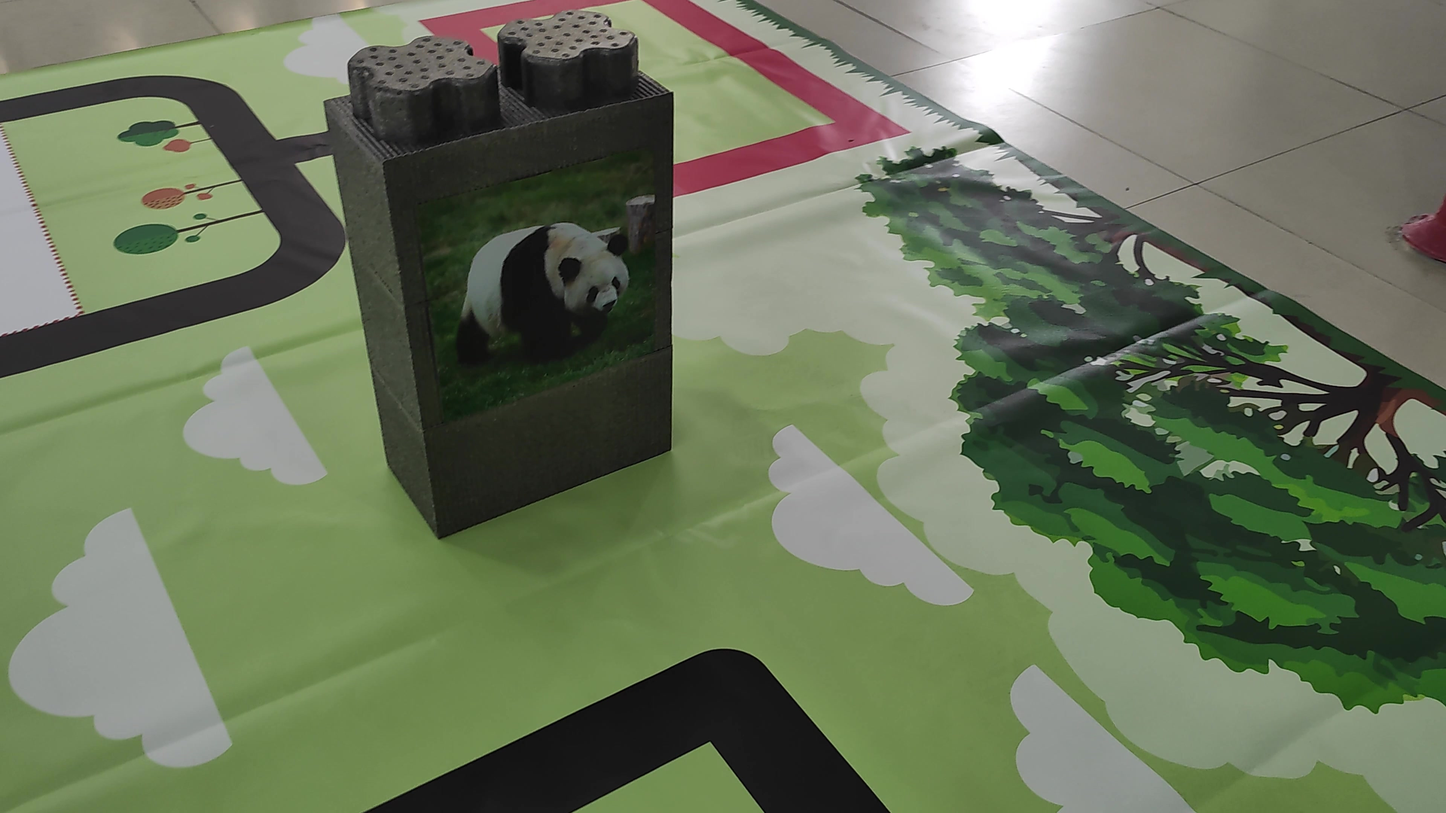panda: (431, 198, 656, 391)
